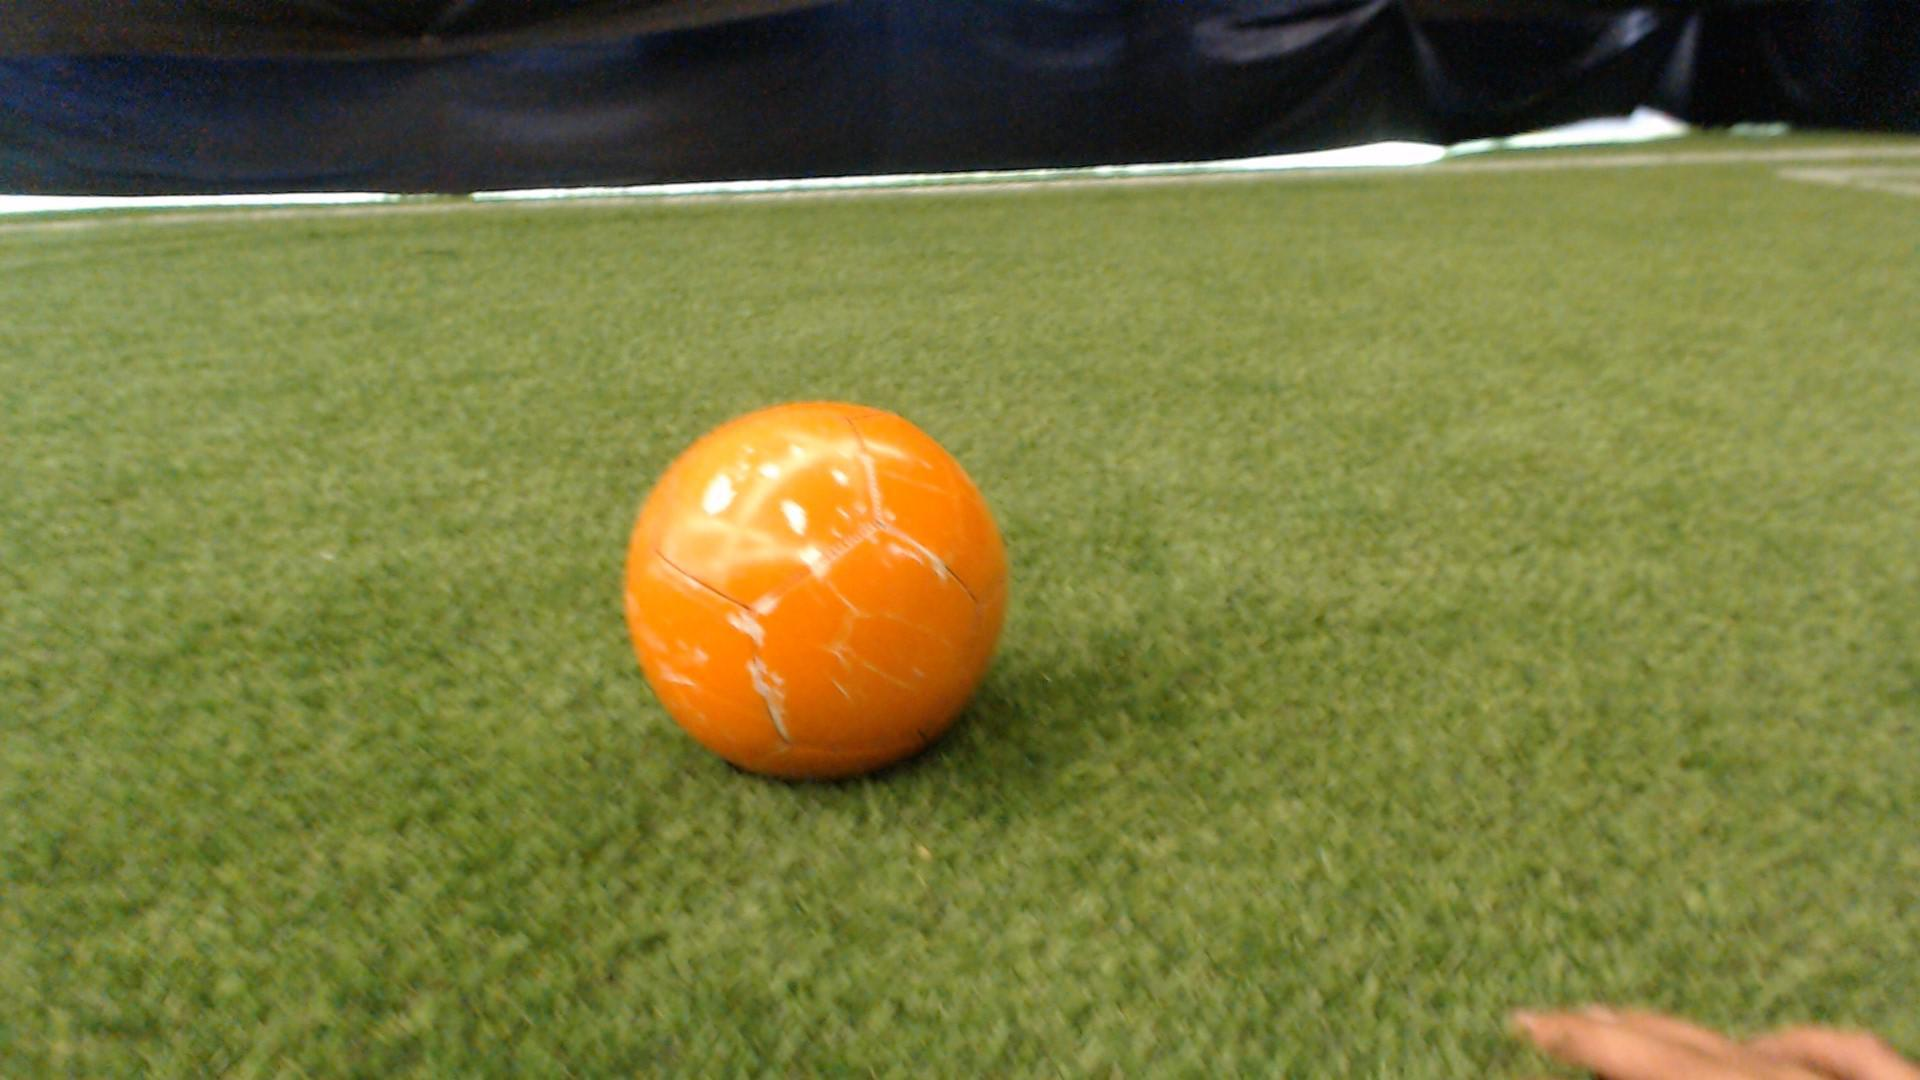bola: (601, 385, 1047, 790)
